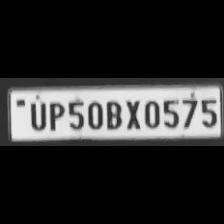0: (140, 97, 162, 129), (84, 98, 104, 130)
5: (197, 96, 219, 128), (64, 98, 84, 130), (159, 96, 179, 128)
7: (179, 96, 197, 128)
B: (104, 98, 122, 130)
P: (44, 99, 64, 130)
U: (25, 99, 47, 131)
X: (122, 97, 140, 131)
